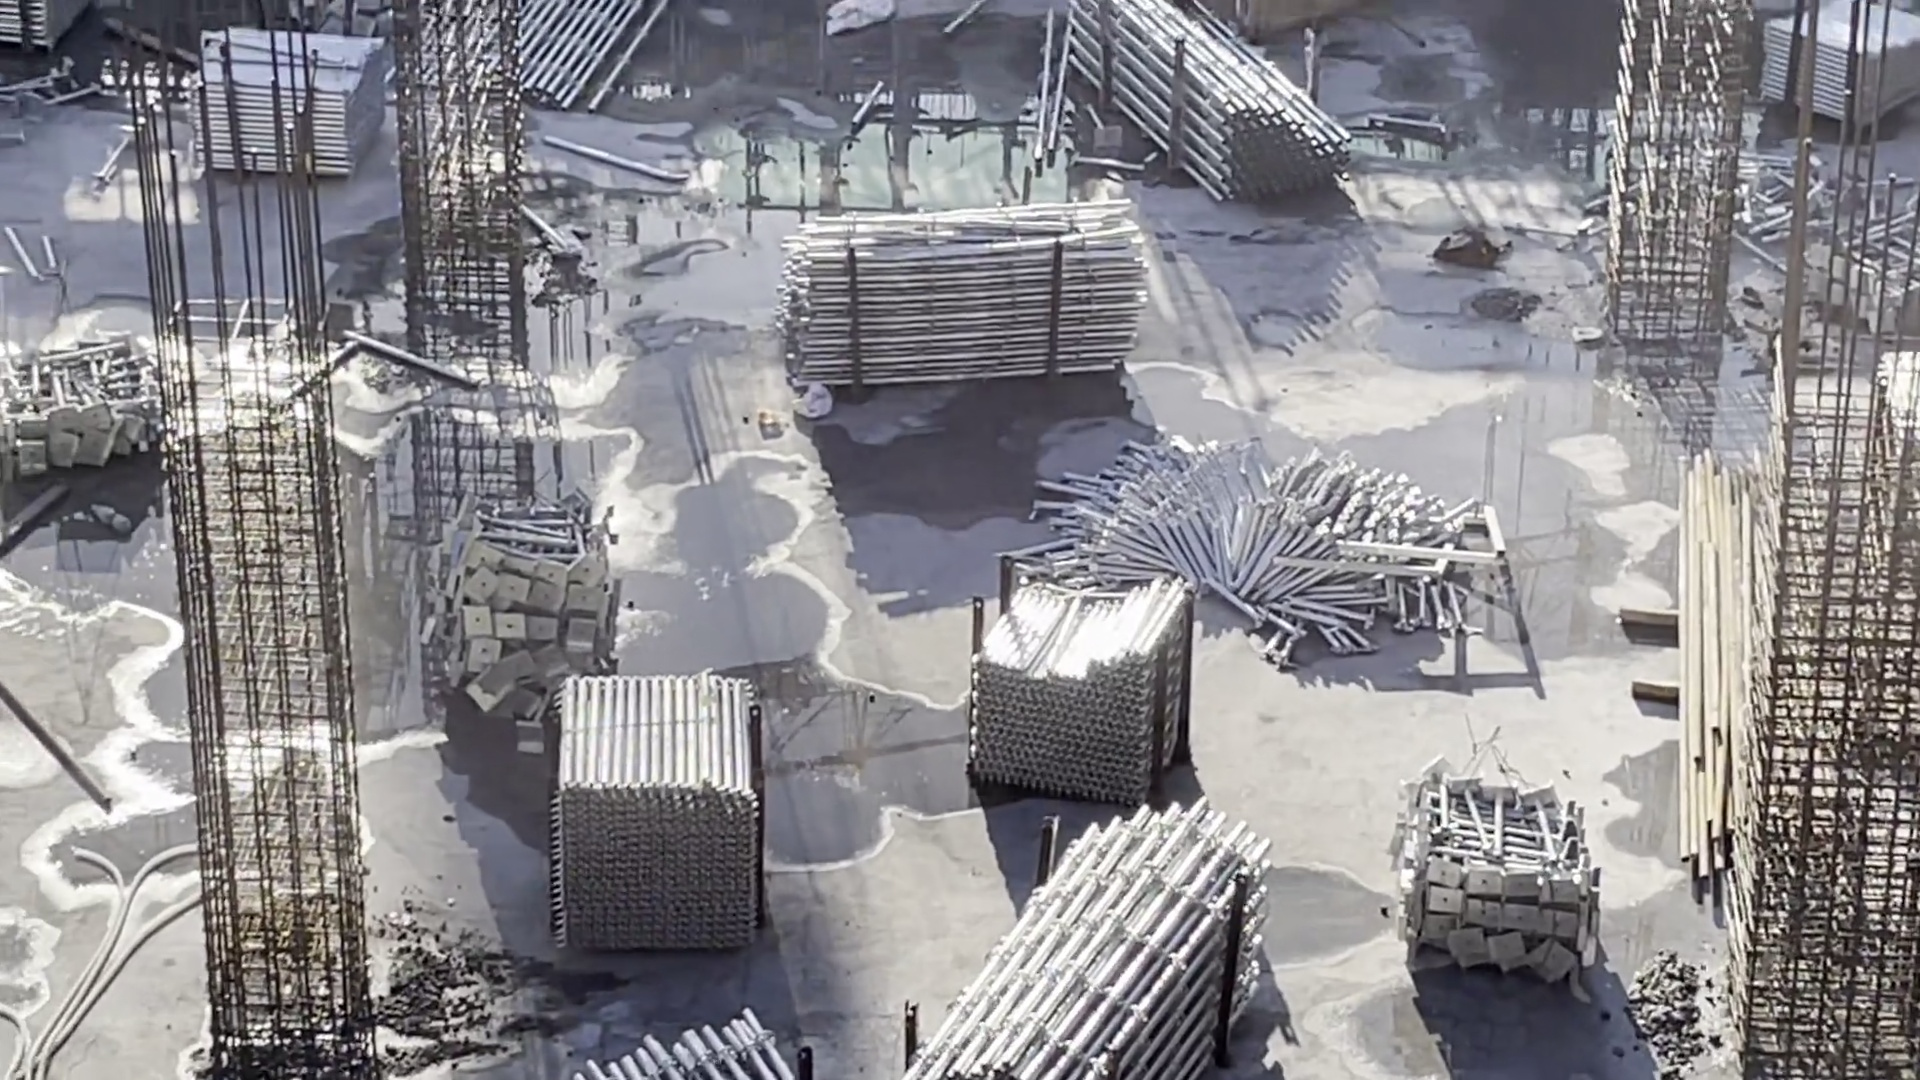scaffold: (886, 818, 1276, 1080), (1056, 423, 1472, 637), (775, 179, 1166, 388), (537, 662, 796, 949), (976, 580, 1215, 807), (1390, 756, 1621, 985), (401, 502, 625, 727), (1108, 1, 1344, 211), (183, 5, 413, 185), (1, 305, 158, 479), (1772, 173, 1920, 324), (1756, 1, 1917, 136), (559, 1015, 815, 1080), (1876, 371, 1920, 560), (1, 1, 113, 59)
